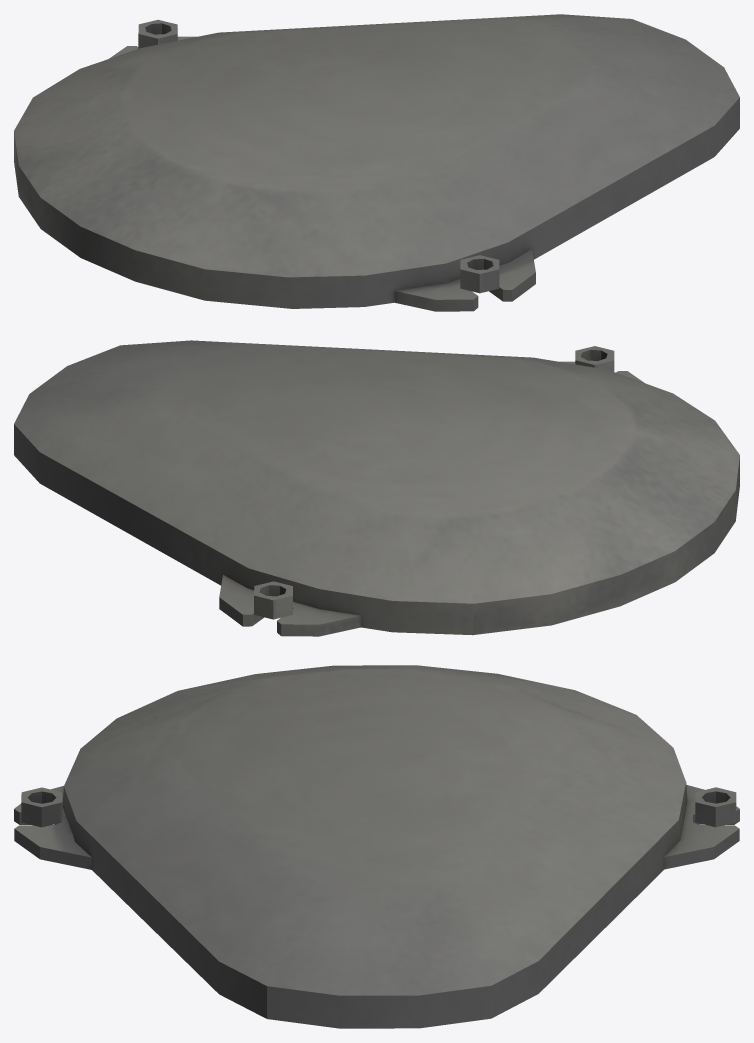
File: mufta_toolsren.fbx
3 views of the same model, one above another, from view 1: azimuth 30°, elevation 25°; view 2: azimuth 150°, elevation 25°; view 3: azimuth 270°, elevation 25° (orthographic). The views are drawn at different scales.
Visible parts, largest first — view 1: mufta_toolsren; view 2: mufta_toolsren; view 3: mufta_toolsren.
Boxes of the visible parts, left/top/right/bottom form: mufta_toolsren: left=14, top=14, right=739, bottom=311; mufta_toolsren: left=14, top=340, right=739, bottom=636; mufta_toolsren: left=14, top=665, right=739, bottom=1028.
Bounding box in the file's own units: 0.2926 × 0.0316 × 0.2718.
